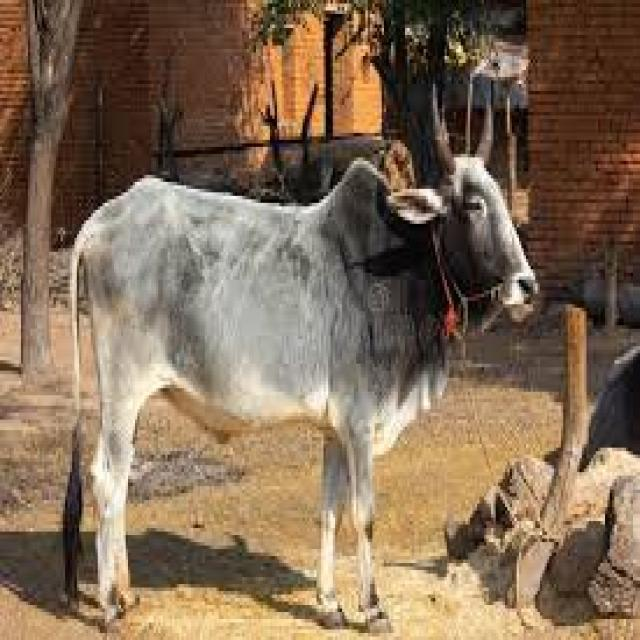Ox: (55, 72, 542, 631)
